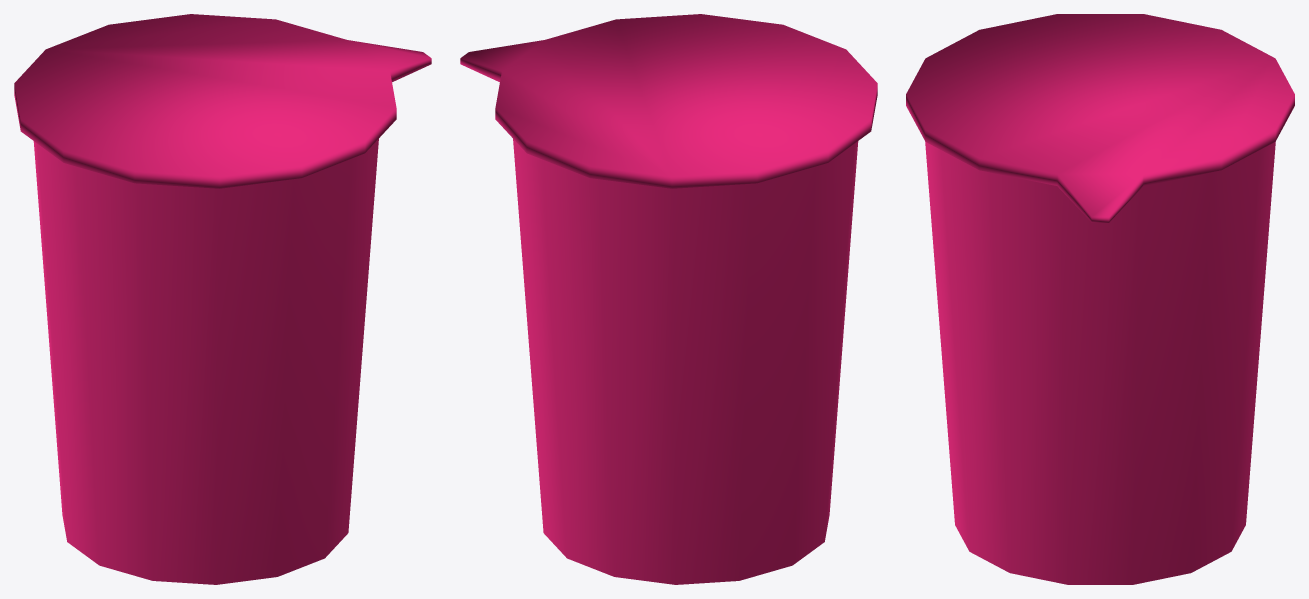
File: noodles_manzo.fbx
3 views of the same model, side by side, from view 1: azimuth 30°, elevation 25°; view 2: azimuth 150°, elevation 25°; view 3: azimuth 270°, elevation 25° (orthographic).
Parts seen in each view (by area): view 1: manzo; view 2: manzo; view 3: manzo.
Part boxes in pixels (x1,y1,x2,y2): manzo: (14,14,431,584); manzo: (460,14,877,584); manzo: (906,14,1294,584).
Bounding box in the file's own units: 152 × 162 × 132.
